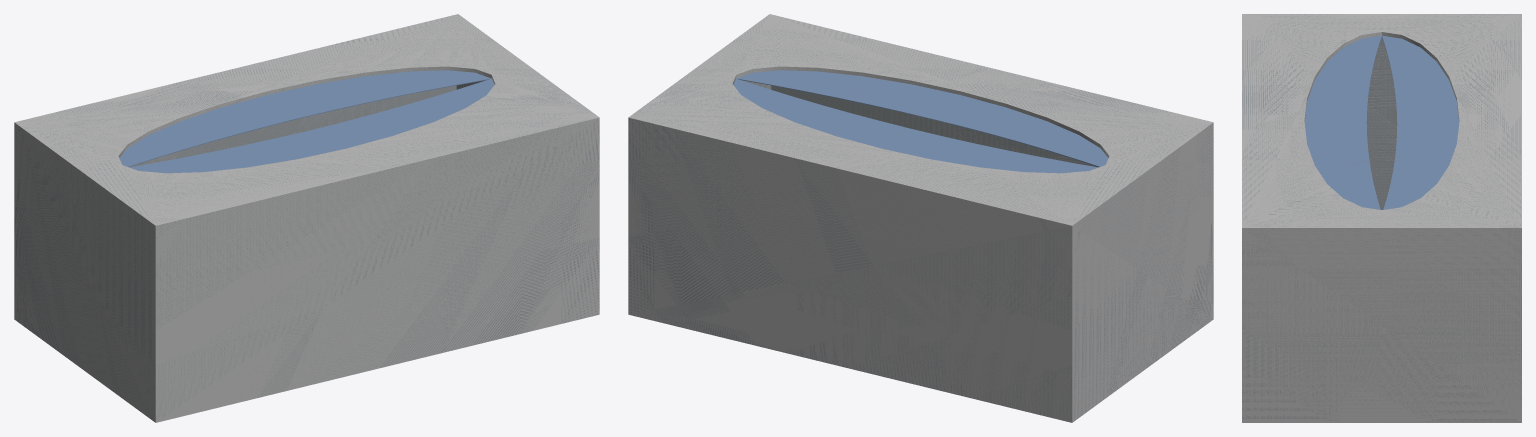
3 renders of one model, left to right at view 1: azimuth 30°, elevation 25°; view 2: azimuth 150°, elevation 25°; view 3: azimuth 270°, elevation 25°, orthographic.
Visible parts, largest first — view 1: instance_0_007, instance_0, instance_0_004, instance_0_001; view 2: instance_0_007, instance_0, instance_0_004, instance_0_001; view 3: instance_0_007, instance_0, instance_0_004, instance_0_001.
Boxes of the visible parts, left/top/right/bottom form: instance_0_007: left=14, top=14, right=599, bottom=422; instance_0: left=119, top=70, right=494, bottom=173; instance_0_004: left=129, top=80, right=485, bottom=167; instance_0_001: left=118, top=66, right=495, bottom=157; instance_0_007: left=628, top=14, right=1213, bottom=422; instance_0: left=733, top=70, right=1108, bottom=173; instance_0_004: left=742, top=80, right=1098, bottom=167; instance_0_001: left=732, top=66, right=1109, bottom=157; instance_0_007: left=1242, top=14, right=1521, bottom=422; instance_0: left=1304, top=35, right=1459, bottom=209; instance_0_004: left=1367, top=37, right=1397, bottom=209; instance_0_001: left=1304, top=32, right=1459, bottom=121.
Bounding box in the file's own units: 0.1873 × 0.1033 × 0.0794.
